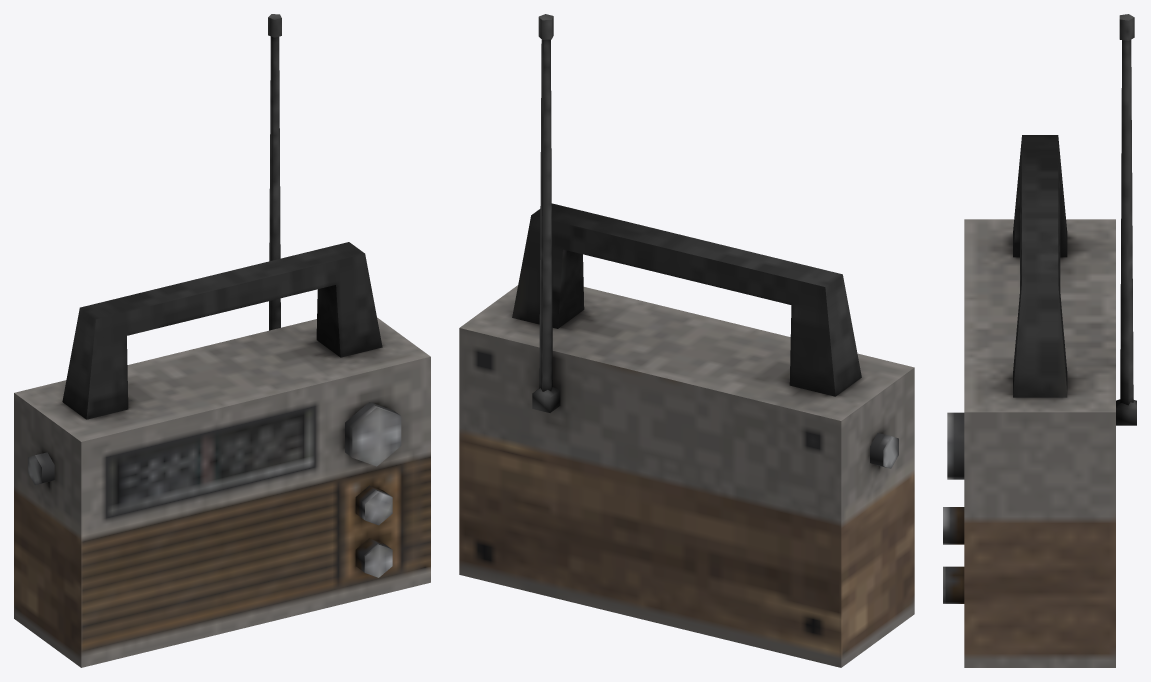
File: radio.fbx
3 views of the same model, side by side, from view 1: azimuth 30°, elevation 25°; view 2: azimuth 150°, elevation 25°; view 3: azimuth 270°, elevation 25° (orthographic). The views are drawn at different scales.
Visible parts, largest first — view 1: radio; view 2: radio; view 3: radio.
Part boxes in pixels (<box>): radio: <box>14,14,430,667</box>; radio: <box>459,14,914,667</box>; radio: <box>943,14,1136,667</box>.
Size of the model in its own units: 44.42 by 62.62 by 18.21.
Materials: 1 (1 with a texture image).
